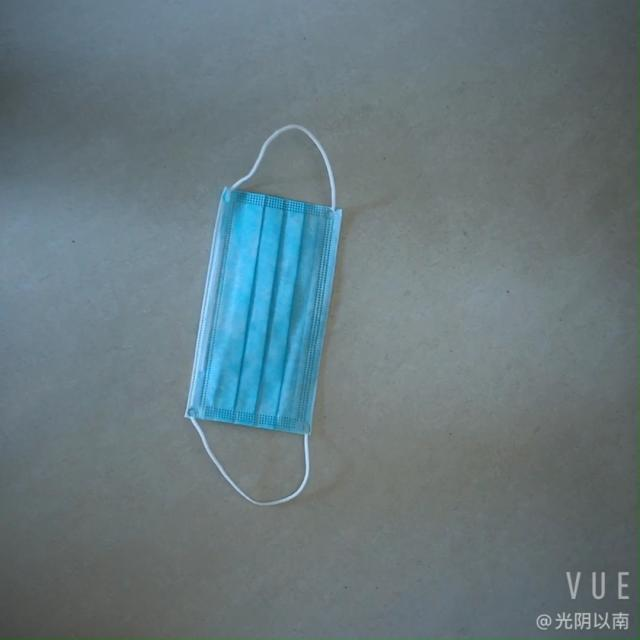face mask: (162, 188, 356, 450)
